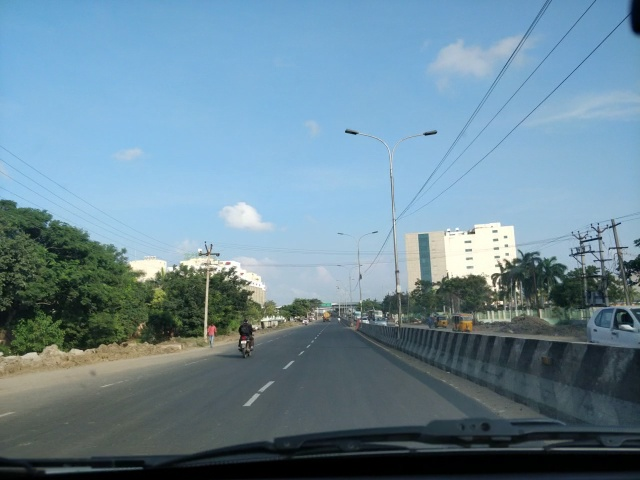auto: (454, 310, 478, 348), (455, 310, 476, 332), (434, 312, 449, 327)
car: (590, 299, 637, 371), (587, 306, 640, 348), (365, 316, 375, 331), (372, 317, 387, 325), (352, 309, 360, 321), (360, 317, 370, 326), (302, 317, 309, 324)
motorbike: (238, 321, 254, 355)
person: (207, 319, 219, 349)
truck: (368, 308, 383, 317), (322, 312, 331, 321)
